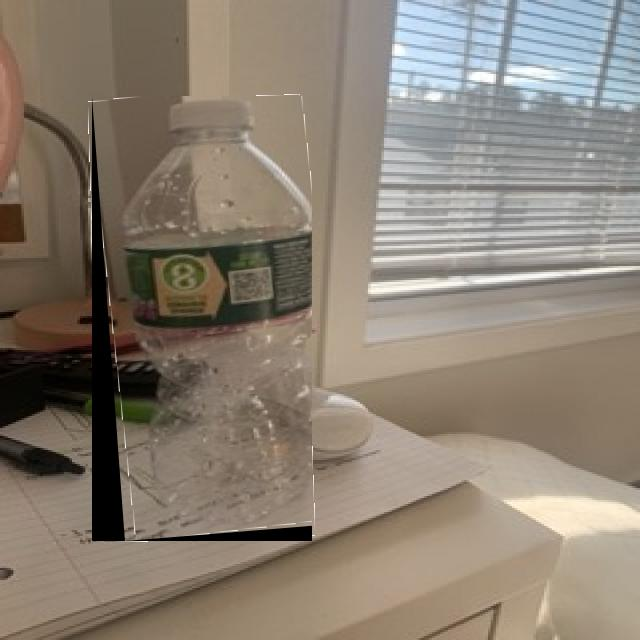water_bottle: (92, 96, 312, 541)
